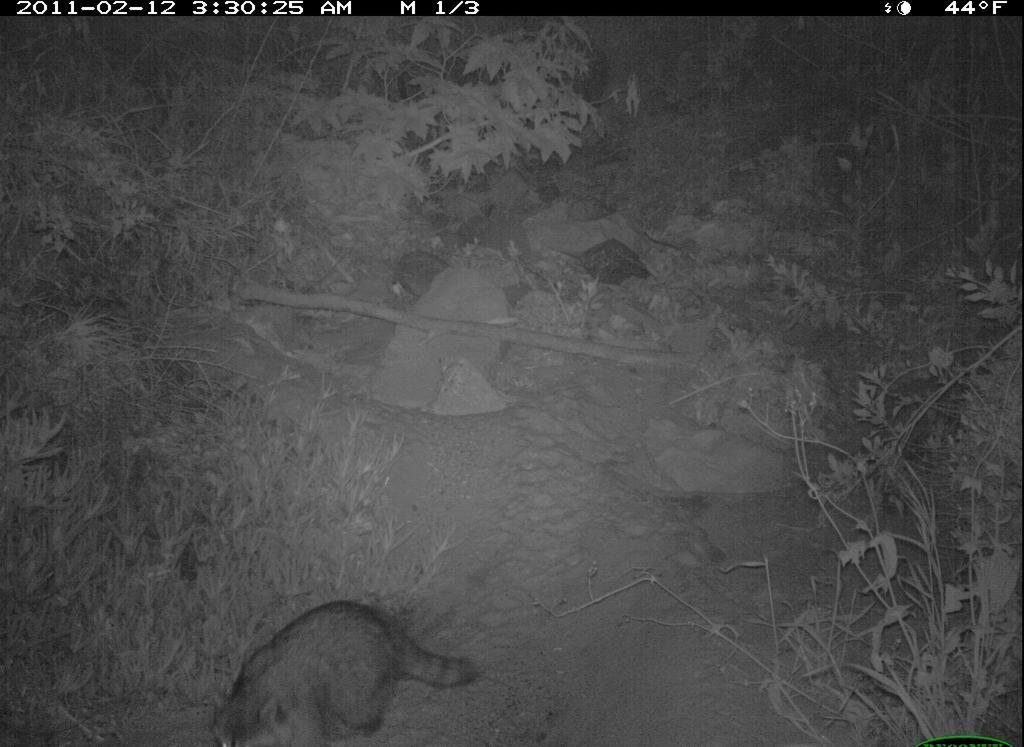raccoon: (203, 565, 484, 747)
